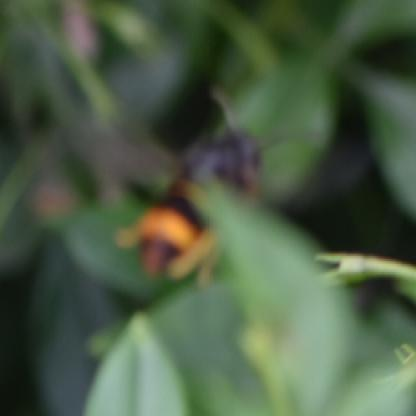Asian Hornet: (116, 98, 280, 290)
